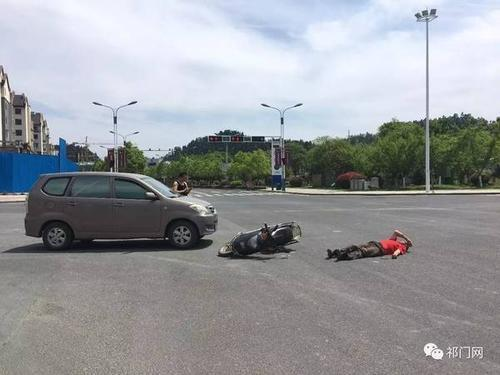Fall-Detected: (321, 220, 418, 265)
